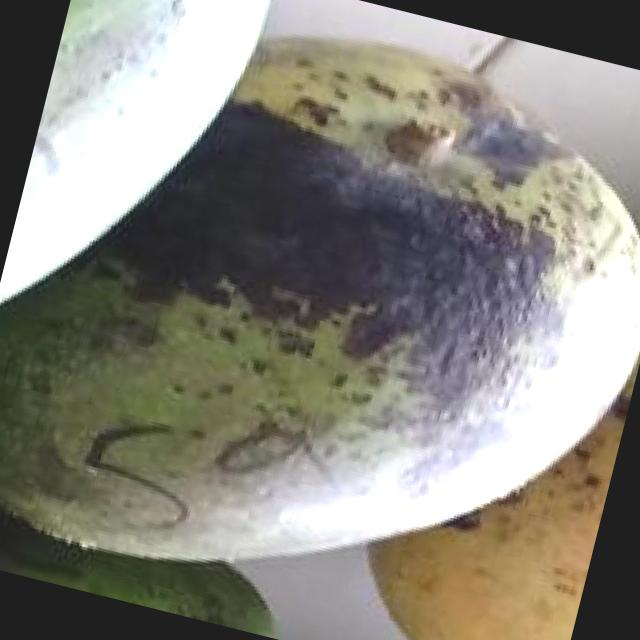Mango: (0, 0, 640, 640), (335, 310, 638, 640), (0, 0, 275, 353)
